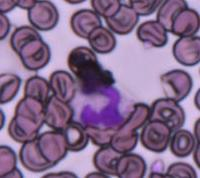N: (78, 84, 134, 128)
